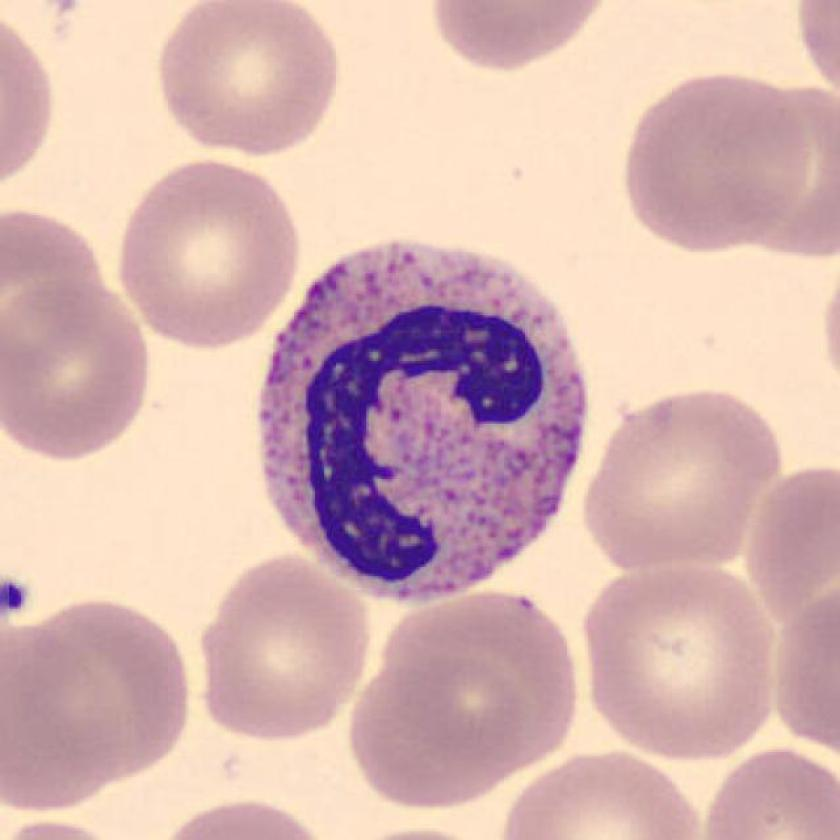neutrophil: (261, 237, 586, 602)
